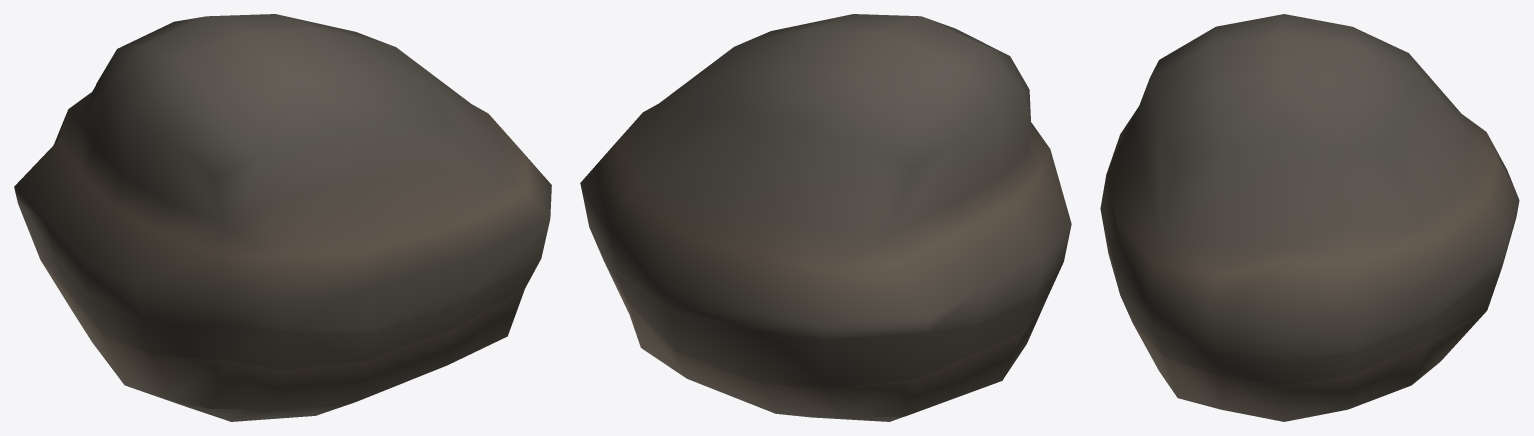
The model's file is ColoredPebble.007.glb.
3 views of the same model, side by side, from view 1: azimuth 30°, elevation 25°; view 2: azimuth 150°, elevation 25°; view 3: azimuth 270°, elevation 25° (orthographic). The views are drawn at different scales.
Visible parts, largest first — view 1: ColoredPebble.007; view 2: ColoredPebble.007; view 3: ColoredPebble.007.
Boxes of the visible parts, x1,y1,x2,y2 form: ColoredPebble.007: (14, 14, 551, 421); ColoredPebble.007: (580, 14, 1071, 421); ColoredPebble.007: (1100, 14, 1519, 421).
Bounding box in the file's own units: 11.58 × 9.35 × 10.67.
